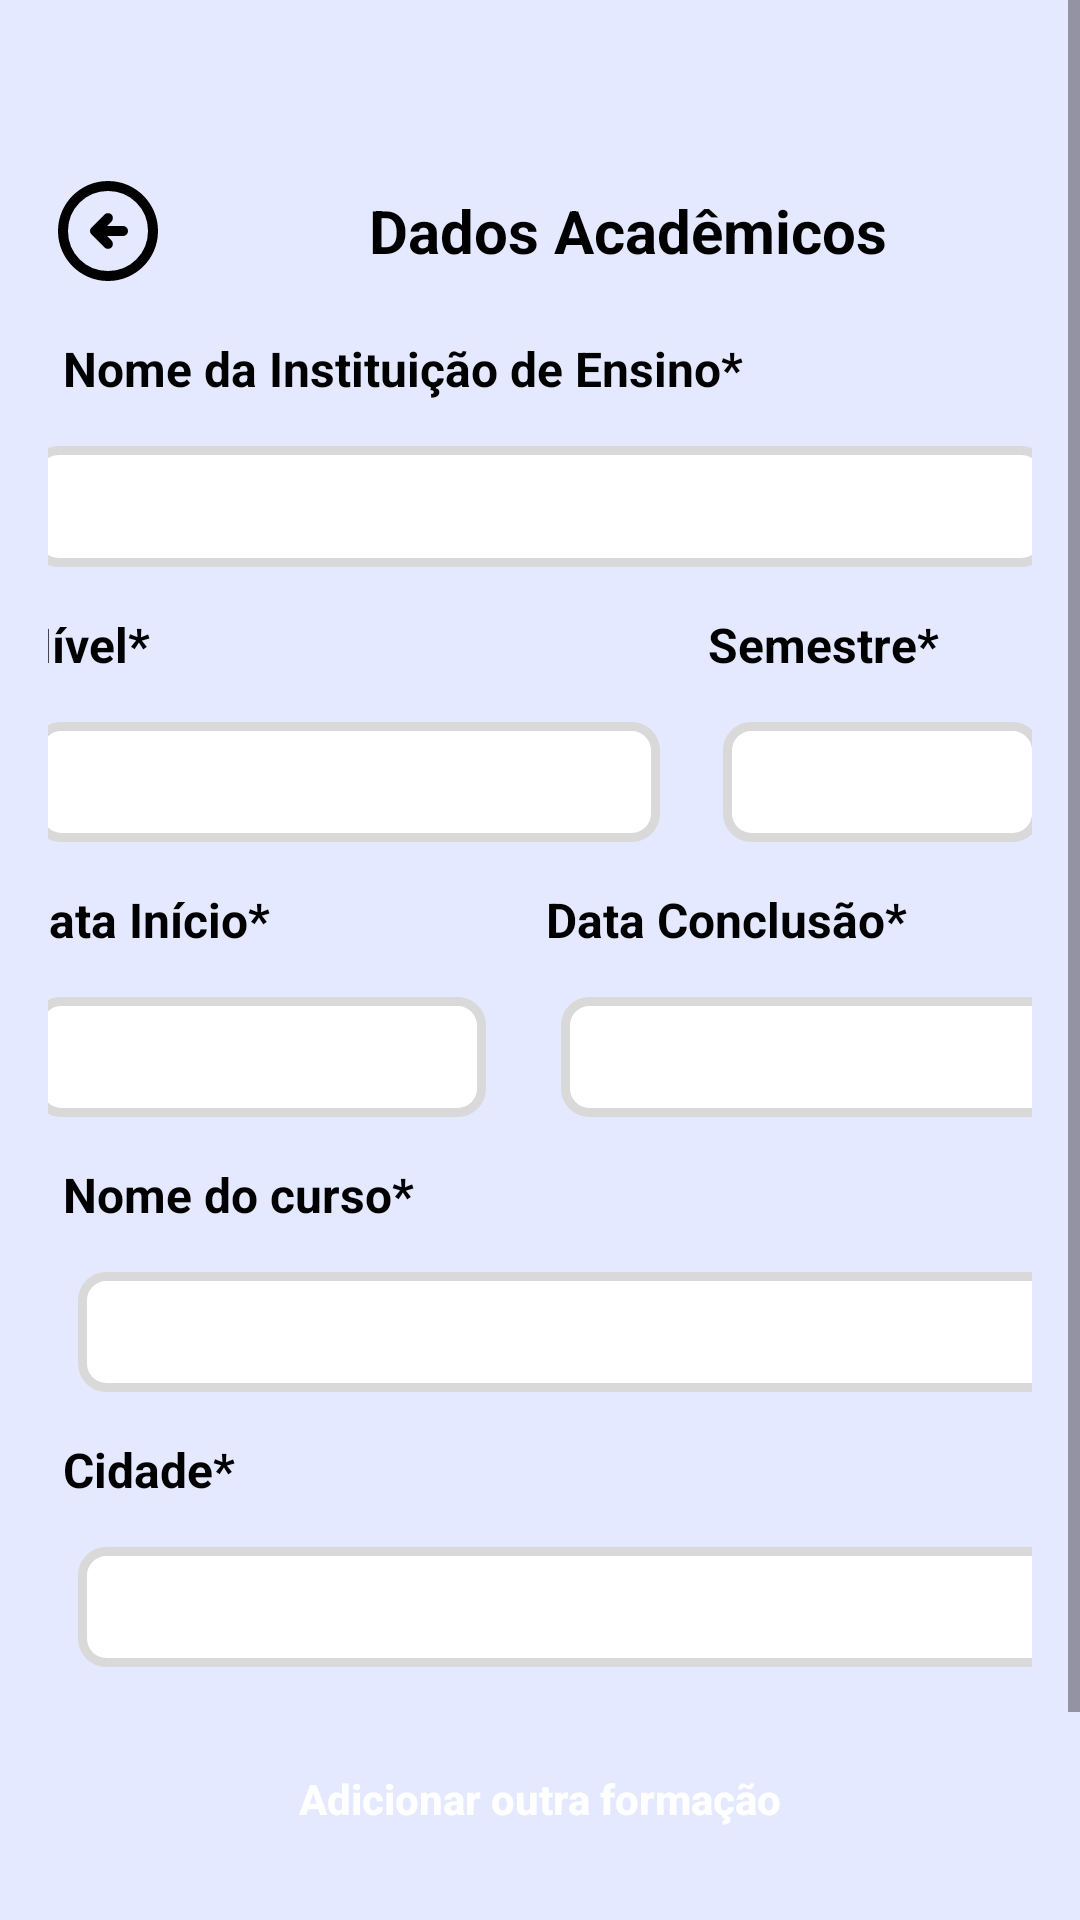

Icons on this 1080px×1920px Android screen, each with the point to tap as [x,y]:
back: [108,231]
